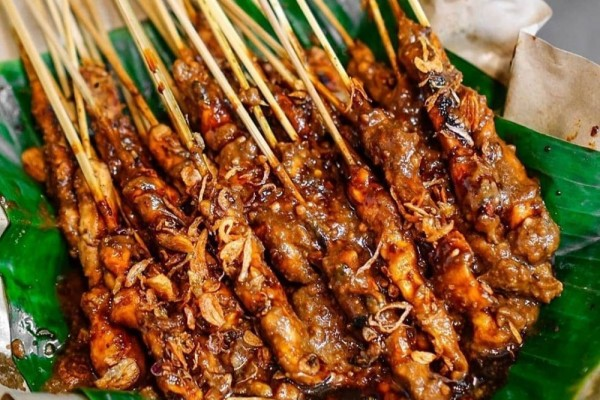sate: (20, 1, 553, 400)
